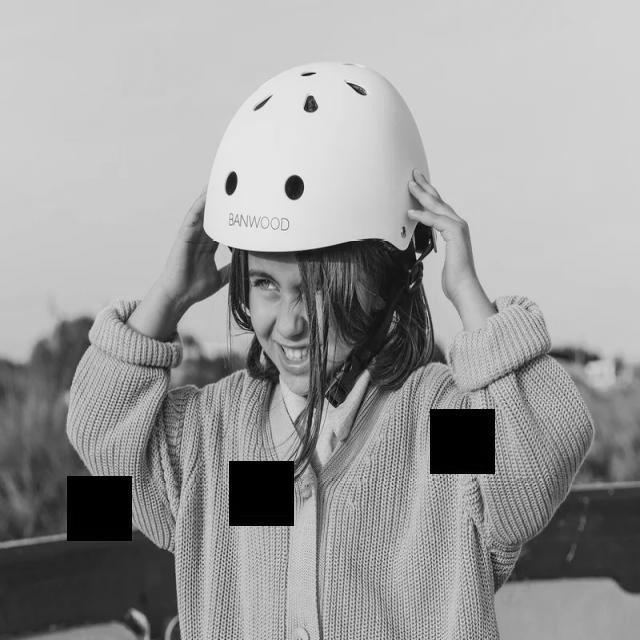helmet: (202, 60, 433, 257)
